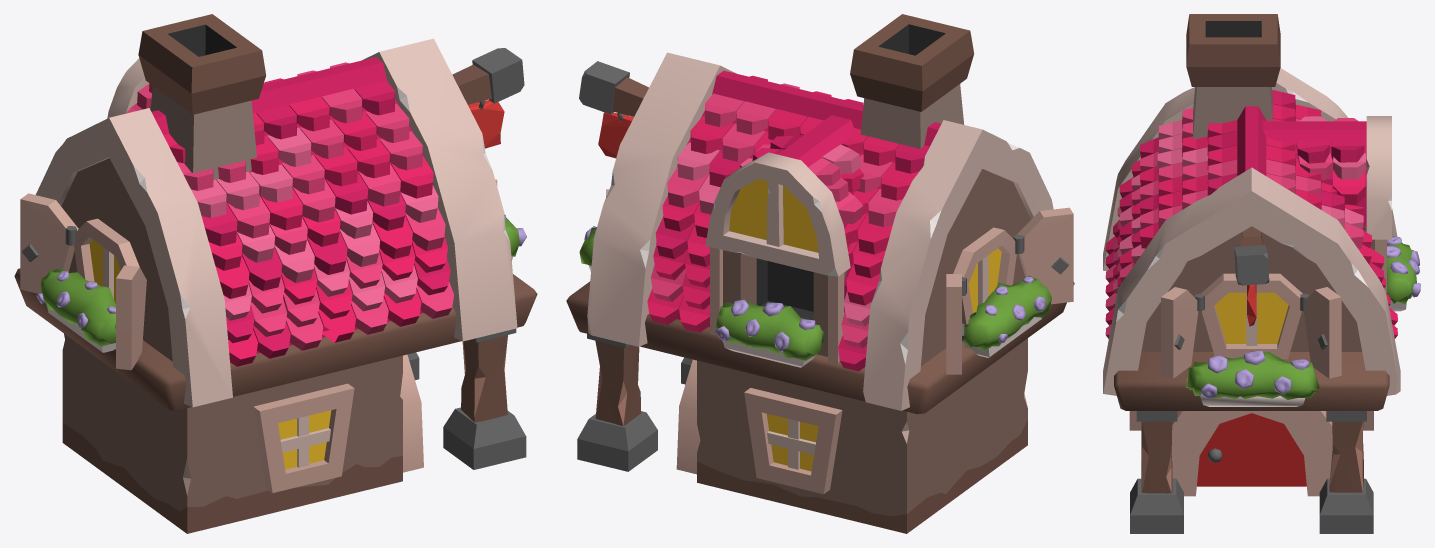
File: house_002.glb
3 views of the same model, side by side, from view 1: azimuth 30°, elevation 25°; view 2: azimuth 150°, elevation 25°; view 3: azimuth 270°, elevation 25° (orthographic). The views are drawn at different scales.
Visible parts, largest first — view 1: house_002; view 2: house_002; view 3: house_002.
Part boxes in pixels (left/top/right/bottom): house_002: left=14, top=14, right=537, bottom=533; house_002: left=566, top=14, right=1074, bottom=533; house_002: left=1103, top=14, right=1420, bottom=533.
Size of the model in its own units: 6.95 by 6.41 by 4.73.
1 material, 1 textured.
